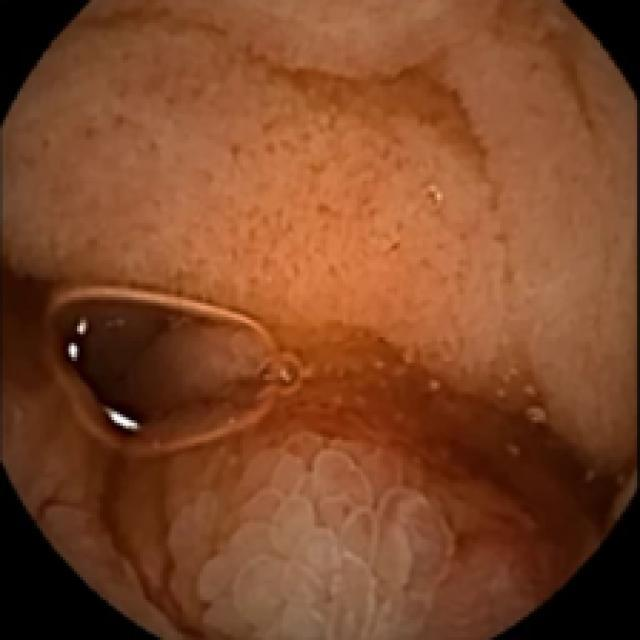bleeding: (33, 330, 628, 640)
